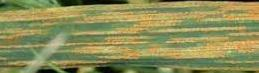Wheat: (2, 12, 259, 60), (133, 4, 259, 11), (79, 6, 128, 9), (66, 62, 98, 66)
